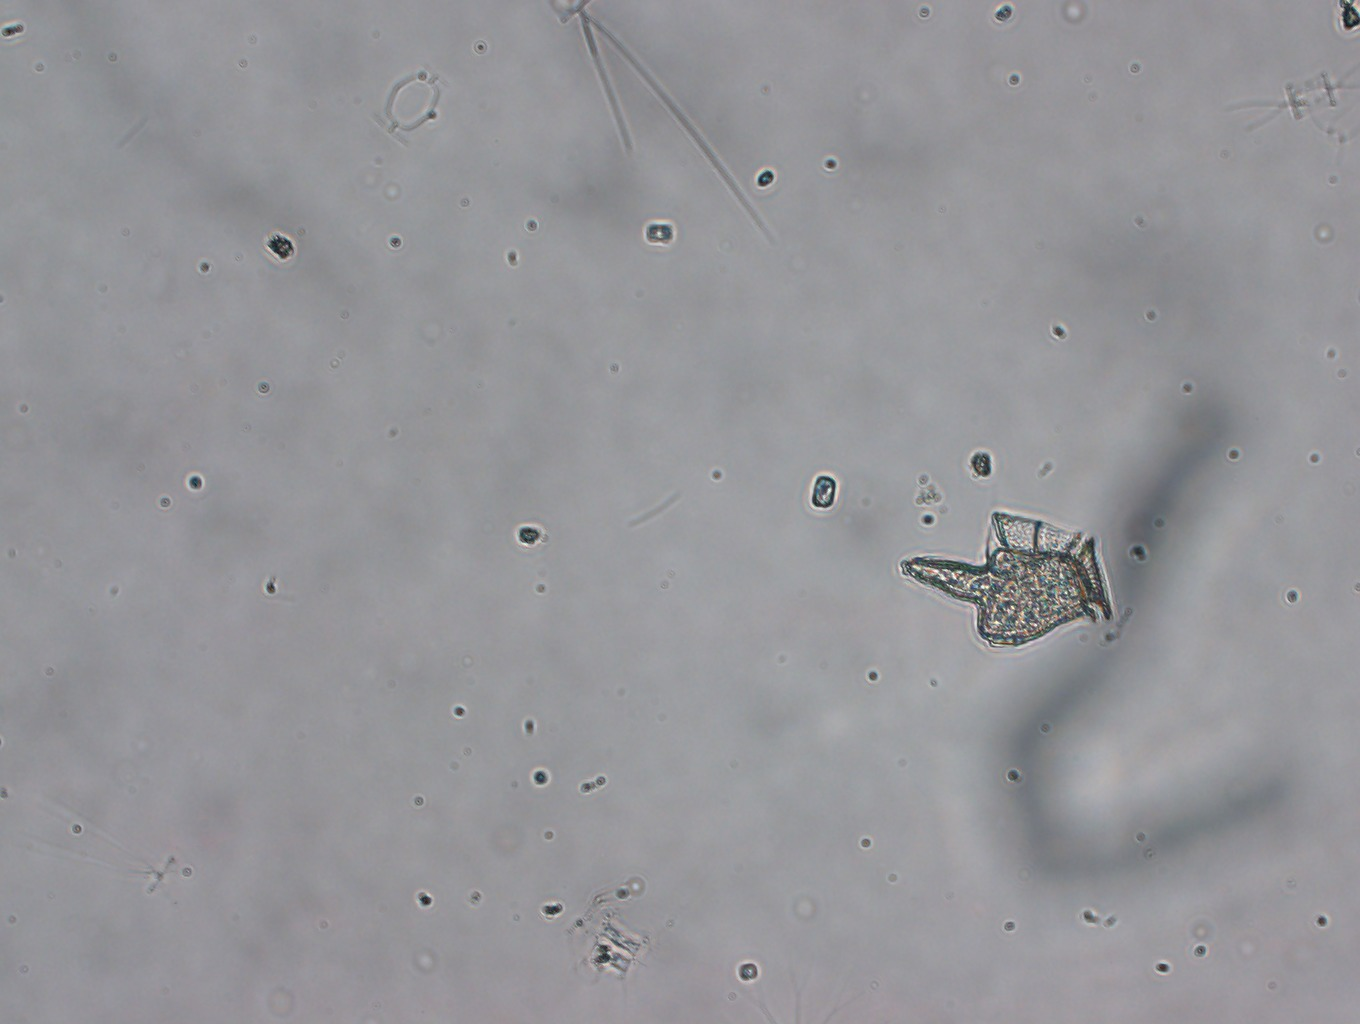dinophysis caudata: (897, 510, 1114, 649)
